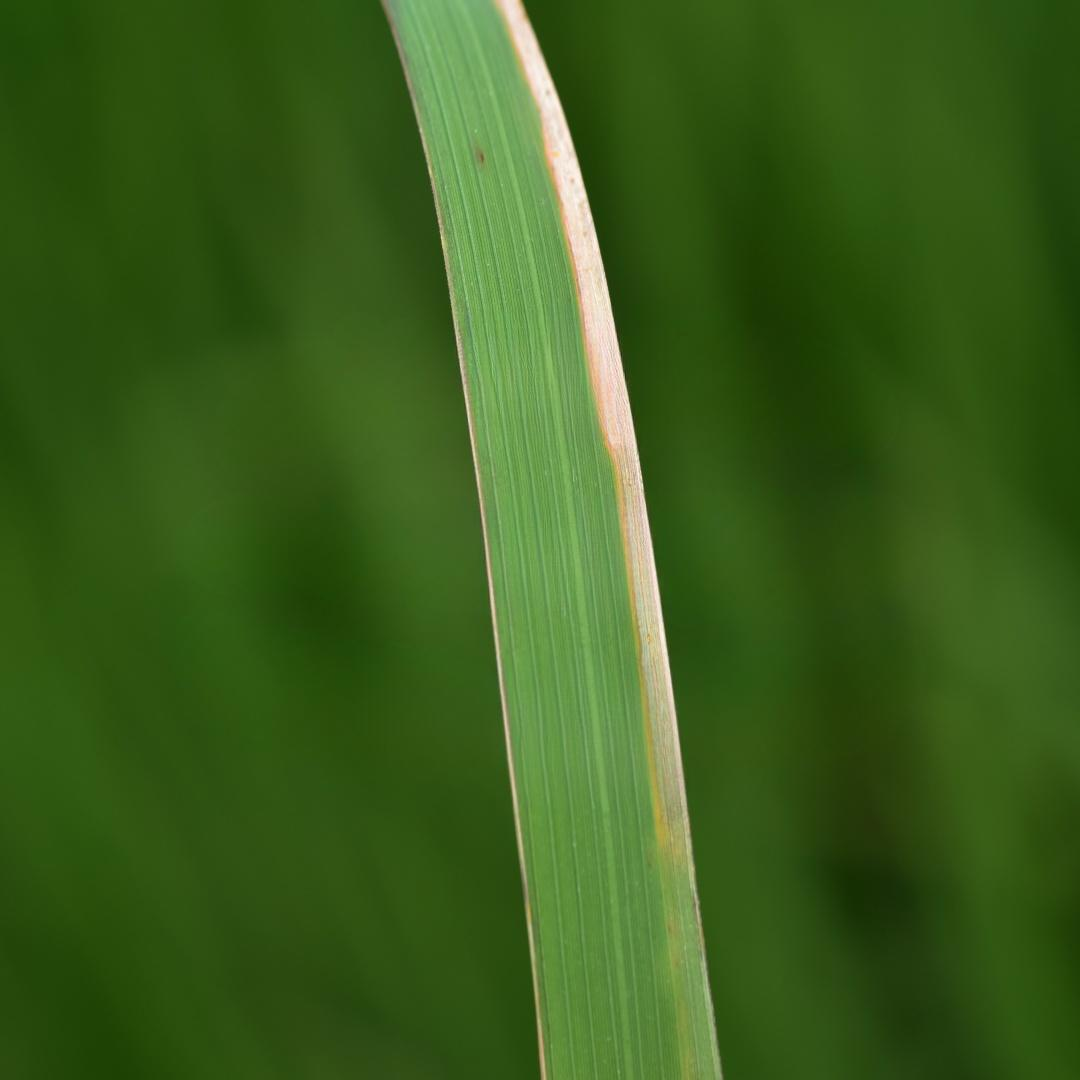BLB: (496, 0, 693, 870)
LEAF: (382, 0, 721, 1079)
